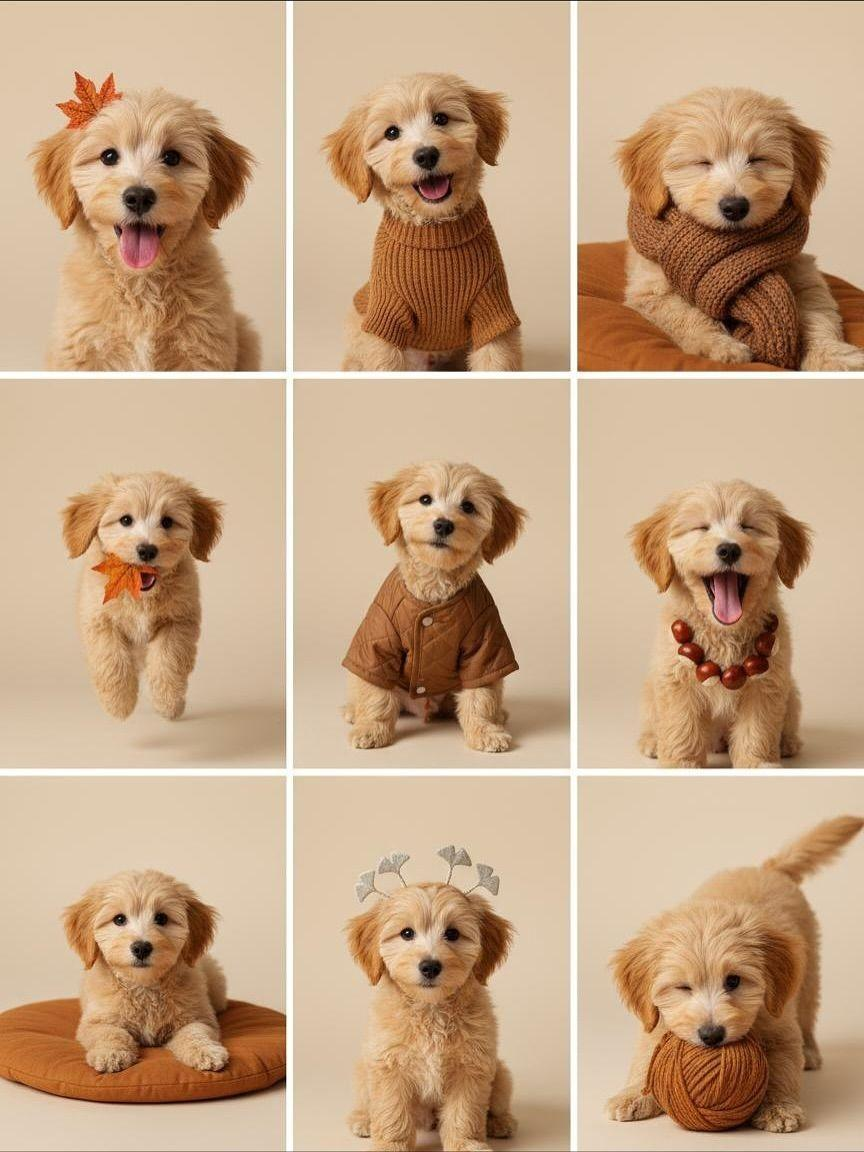puppy-dog: (603, 811, 864, 1135), (609, 85, 864, 372), (24, 84, 265, 372), (319, 67, 525, 373), (624, 476, 816, 770), (340, 459, 530, 755), (340, 881, 521, 1152), (59, 468, 226, 726), (57, 870, 232, 1079)
